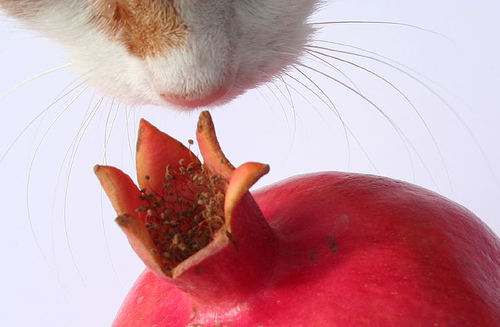pomogranate: (93, 107, 499, 326)
